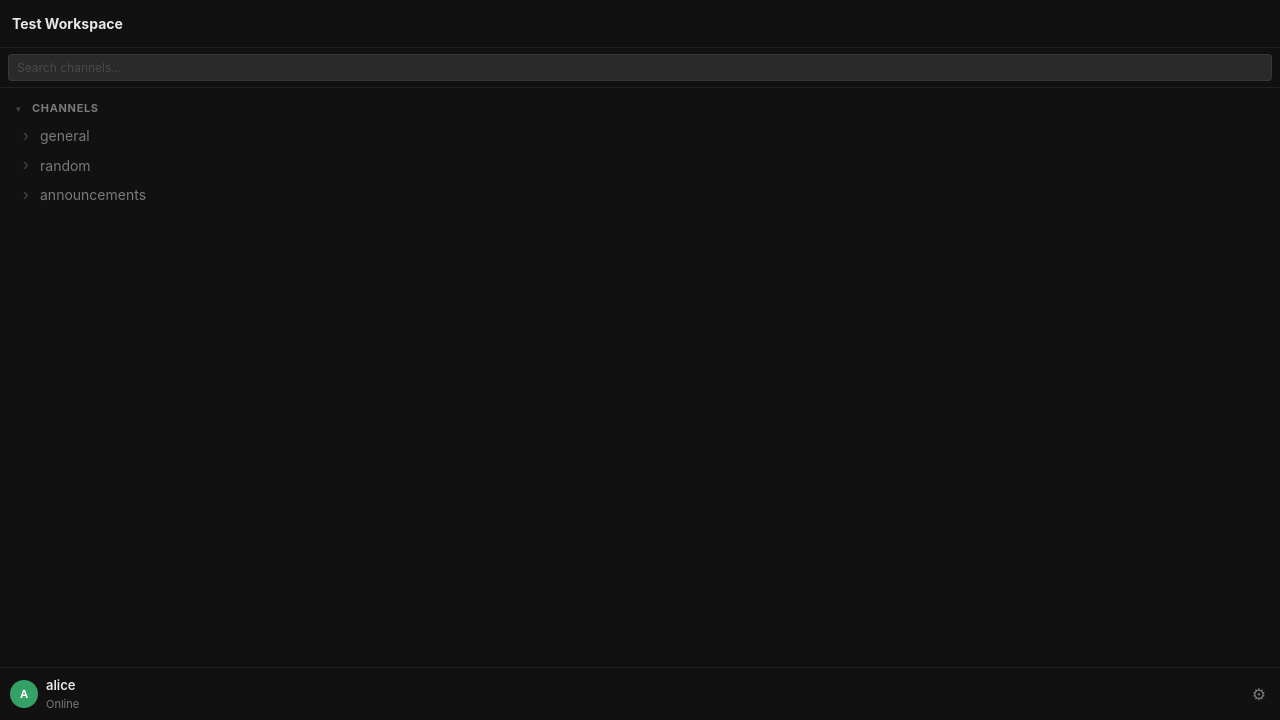
Test: ChannelSidebar — channel search › clear button clears the search and shows all channels
Type "gen" into the field labelled "Search channels…".
click(640, 68); type("gen")  # box left=8, top=54, right=1272, bottom=81
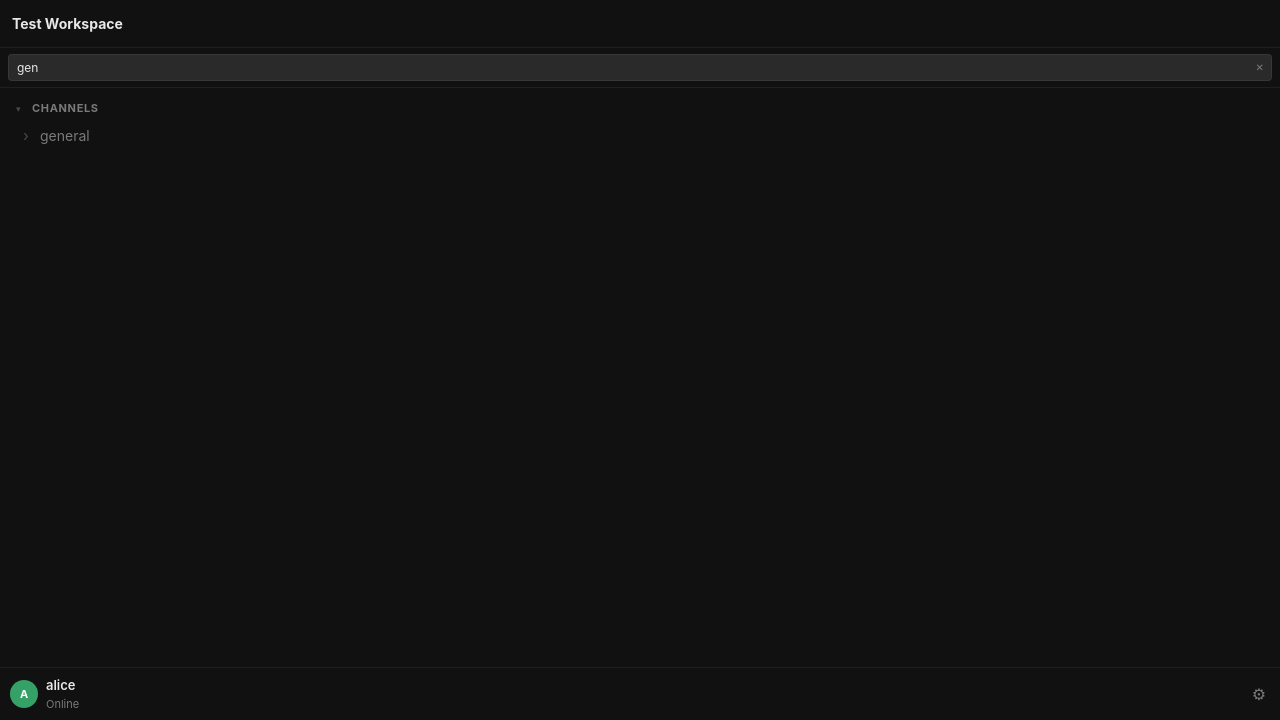
Click the button named "clear search".
click(1260, 68)  # box left=1254, top=60, right=1266, bottom=74
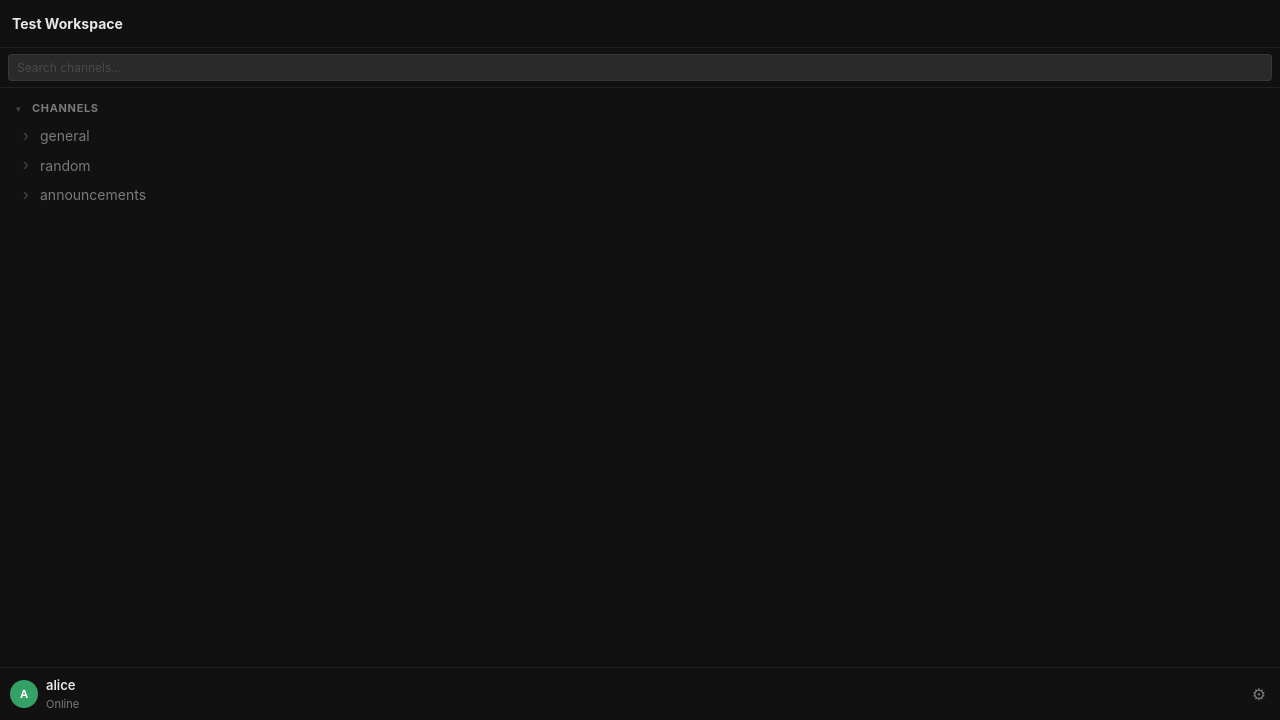
Expected: the text "random" is shown, left=40, top=157, right=91, bottom=174
Expected: the text "announcements" is shown, left=40, top=186, right=146, bottom=203
